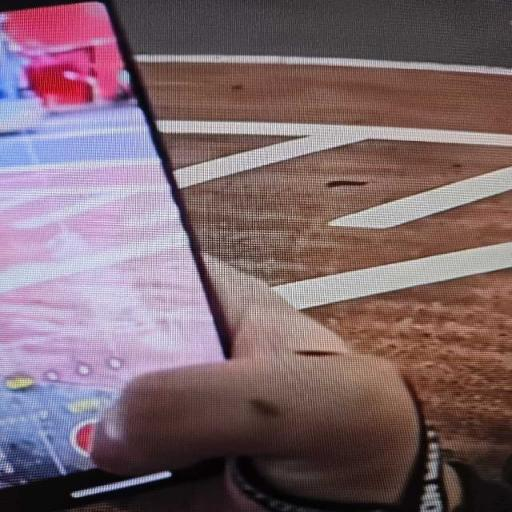person: (92, 257, 511, 511)
